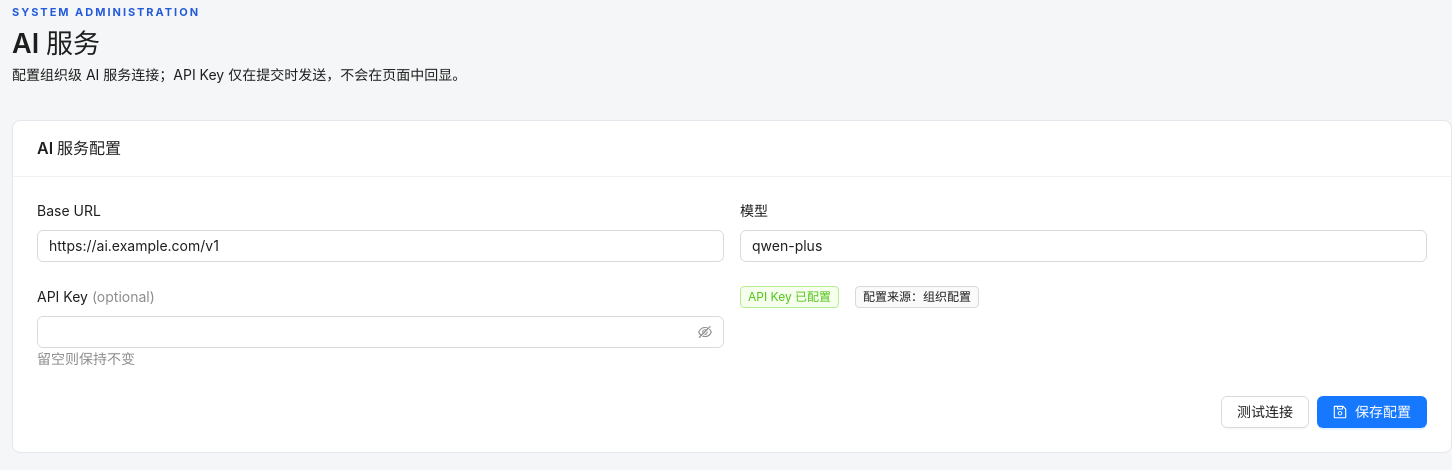
提交前校验 Base URL 和模型必填
The width and height of the screenshot is (1452, 470).
Step 1. Clear the field labelled "Base URL" → (380, 246), box [37, 230, 724, 262]
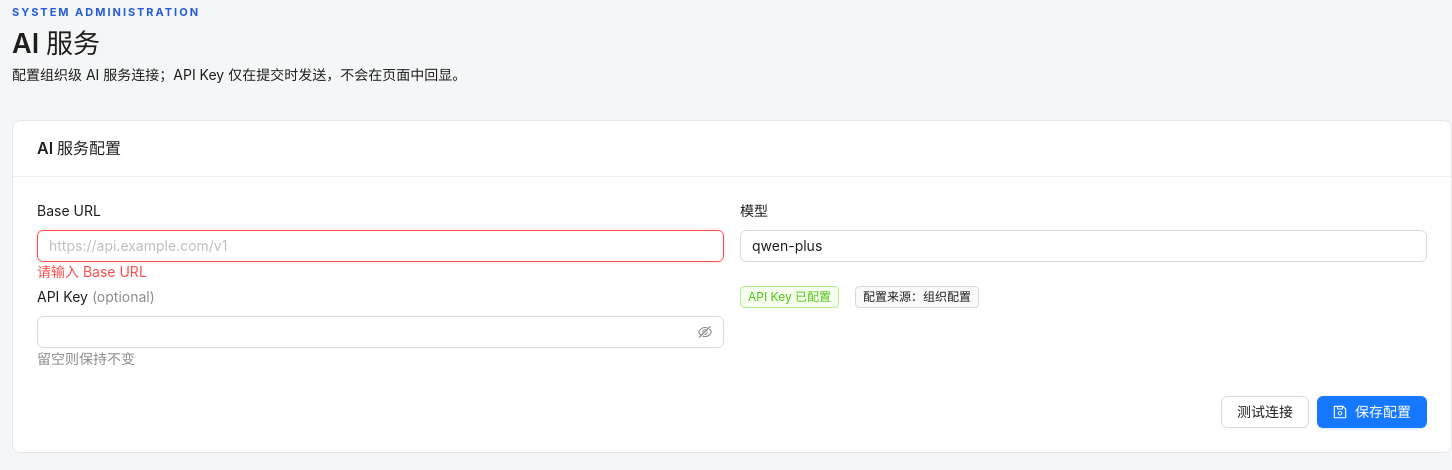
Step 2. Clear the field labelled "模型" → (1084, 246), box [740, 230, 1427, 262]
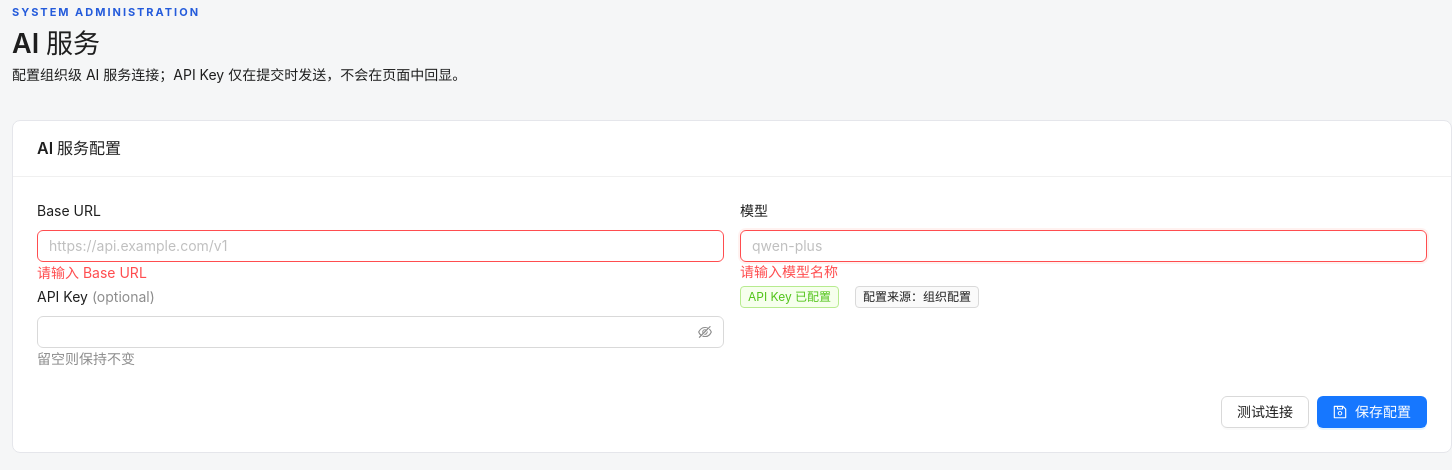
Step 3. Click the button "测试连接" → (1265, 412), box [1221, 396, 1309, 428]
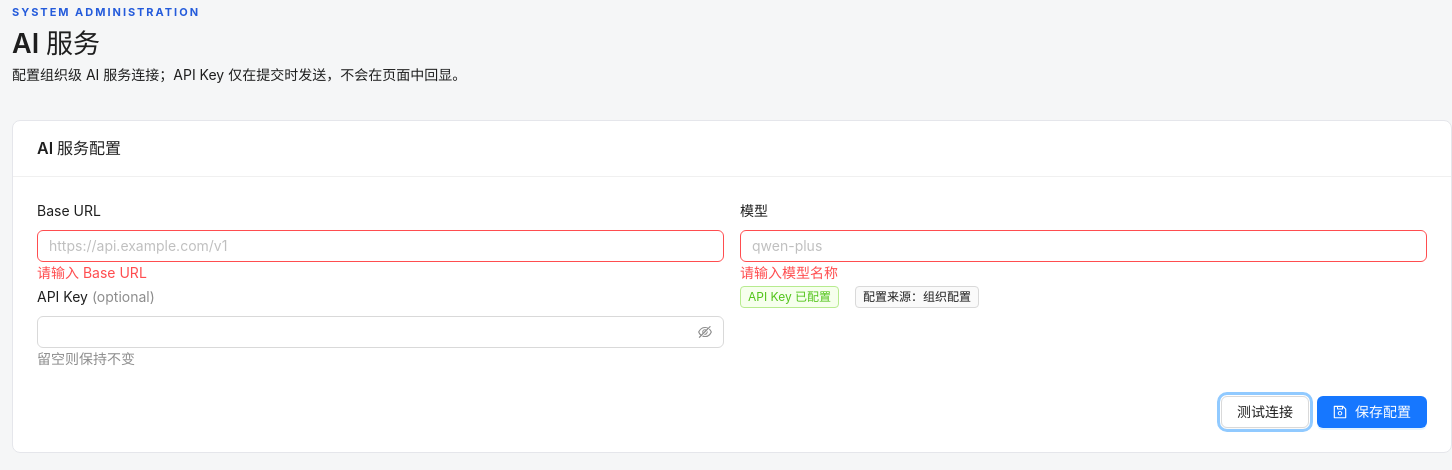
Result: the text "请输入 Base URL" is shown at [37, 264, 147, 281]
Result: the text "请输入模型名称" is shown at [740, 264, 838, 281]
